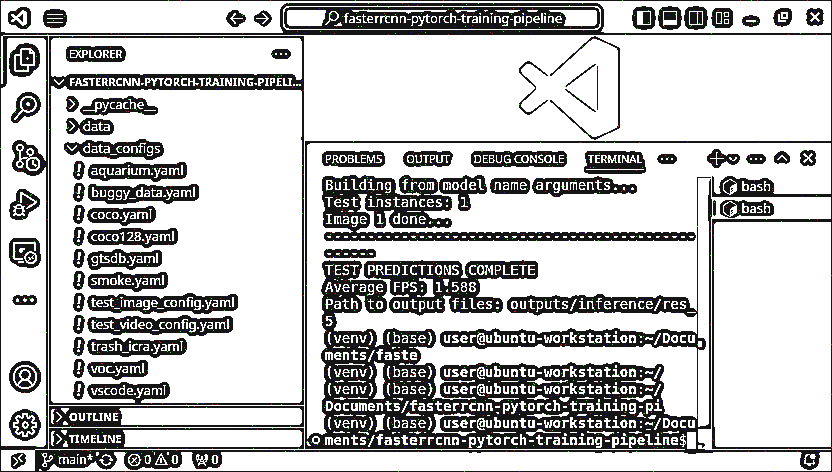Accounts: (6, 358, 41, 392)
Activity Bar: (1, 32, 44, 447)
Close: (803, 5, 822, 25)
Editor: (45, 31, 304, 448), (302, 30, 828, 136)
Explorer: (7, 39, 43, 74)
Manage: (7, 409, 39, 438)
Maximize: (772, 5, 791, 25)
Minimize: (738, 7, 761, 28)
Panel: (304, 138, 827, 447)
Run and Debug: (7, 184, 39, 220)
Search: (8, 87, 39, 123)
Search Bar: (276, 3, 605, 30)
Source Control: (8, 135, 44, 174)
Status Bar: (1, 450, 827, 467)
Top Bar: (1, 1, 829, 30)
